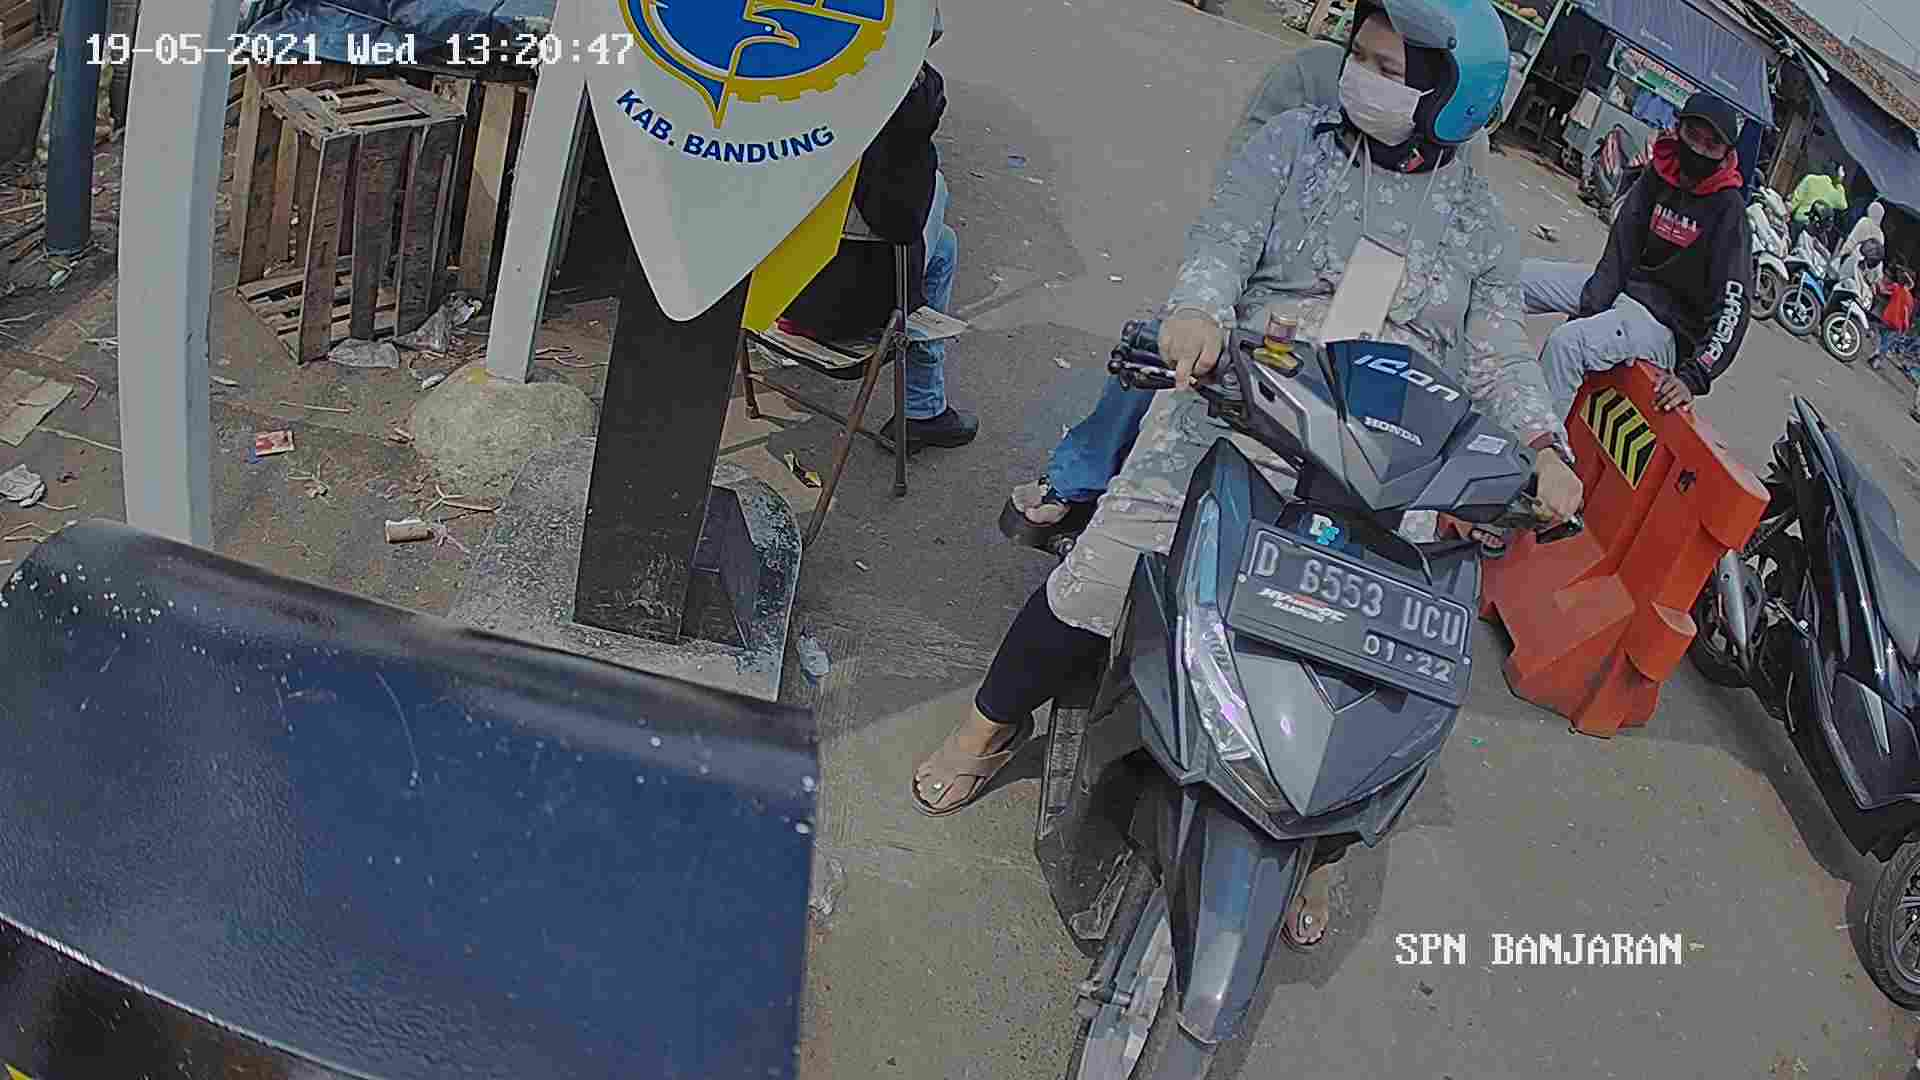motor: (1065, 295, 1538, 1080)
